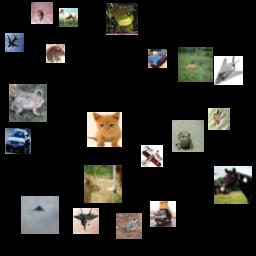airplane: (21, 196, 59, 234), (214, 56, 243, 85), (73, 208, 99, 234), (141, 145, 163, 167), (5, 33, 24, 52)
automobile: (5, 128, 31, 154), (148, 49, 167, 68)
bird: (116, 213, 142, 239), (208, 108, 230, 130)
cat: (87, 112, 122, 147), (31, 2, 53, 24)
deer: (84, 165, 122, 203), (178, 47, 213, 82)
frog: (9, 84, 47, 122), (172, 120, 204, 152), (106, 3, 138, 35), (46, 44, 65, 63)
truck: (150, 201, 176, 227)
